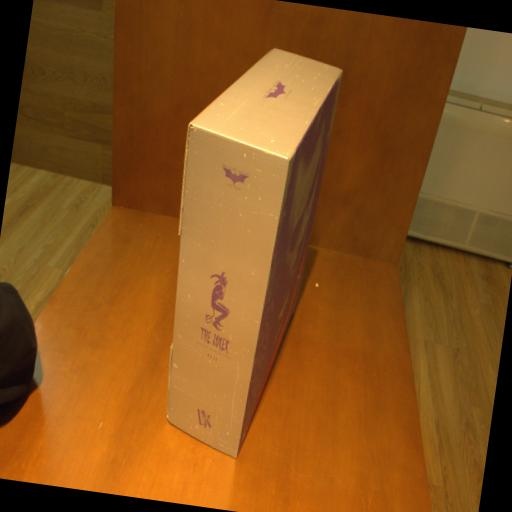Joker: (151, 34, 344, 461)
